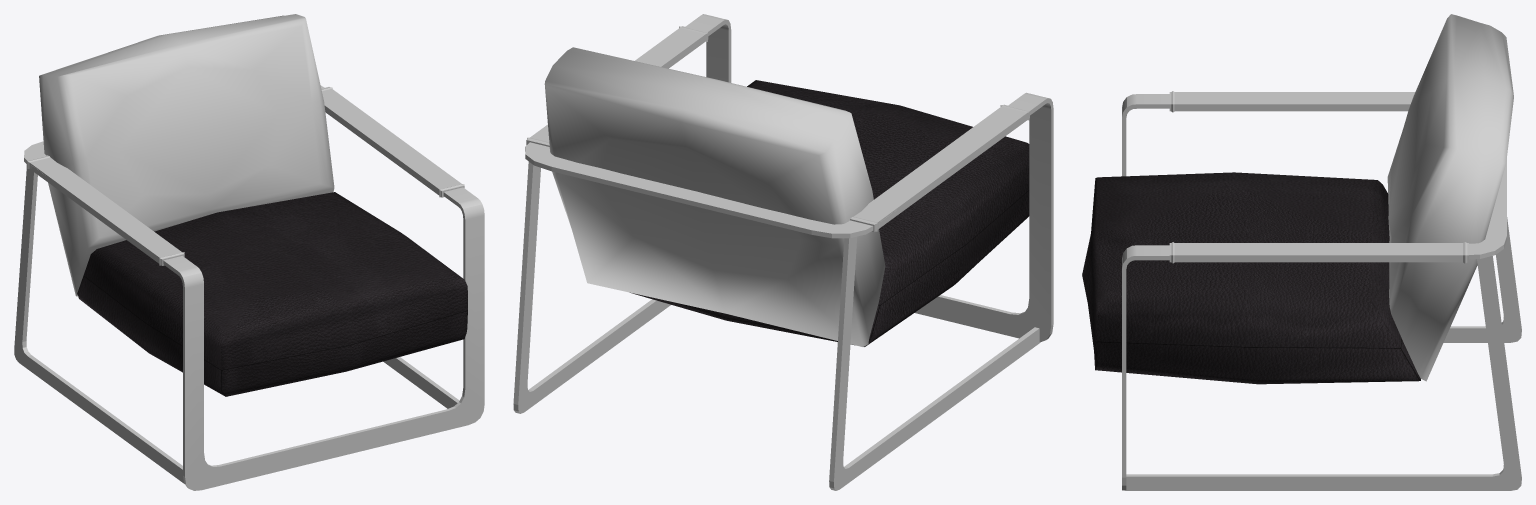
Rendered from SofaSit.FBX.
The picture shows the model from 3 angles, left to right: view 1: azimuth 30°, elevation 25°; view 2: azimuth 150°, elevation 25°; view 3: azimuth 270°, elevation 25°; orthographic projection. The views are drawn at different scales.
Parts seen in each view (by area): view 1: shafadian, shafadian01, sofa1, sffs2; view 2: shafadian01, sofa1, shafadian, sffs2; view 3: shafadian, shafadian01, sofa1, sffs2.
Boxes of the visible parts, x1,y1,x2,y2 form: shafadian: (77,192,467,396); shafadian01: (39,14,334,296); sofa1: (14,85,484,490); sffs2: (26,87,464,265); shafadian01: (544,47,885,346); sofa1: (513,14,1053,490); shafadian: (630,80,1029,346); sffs2: (526,26,1029,232); shafadian: (1082,172,1420,384); shafadian01: (1387,14,1513,381); sofa1: (1122,94,1521,490); sffs2: (1169,91,1468,263).
Size of the model in its own units: 0.7808 by 0.7446 by 0.8819.
